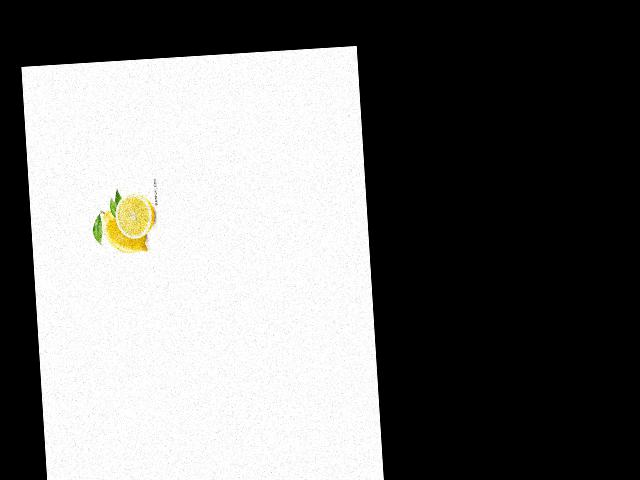lemon: (99, 204, 149, 262)
